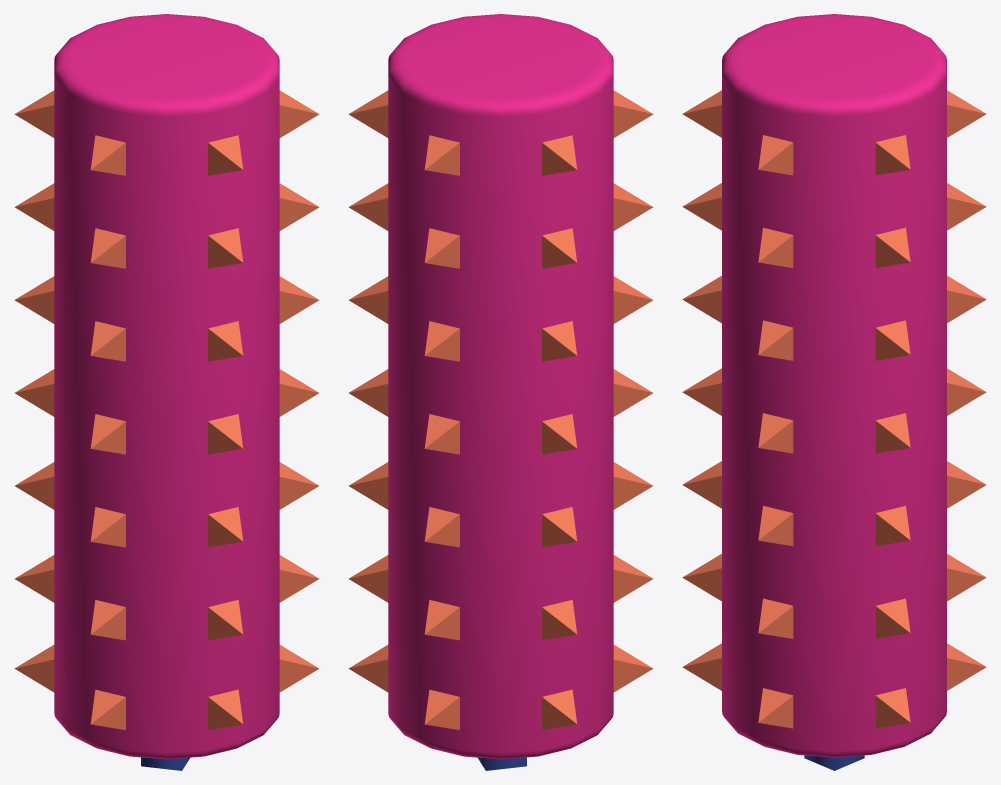
File: Trap_Clumn.FBX
The picture shows the model from 3 angles, left to right: view 1: azimuth 30°, elevation 25°; view 2: azimuth 150°, elevation 25°; view 3: azimuth 270°, elevation 25°; orthographic projection.
Visible parts, largest first — view 1: Trap_Clumn; view 2: Trap_Clumn; view 3: Trap_Clumn.
Part boxes in pixels (<box>): Trap_Clumn: <box>14,14,319,770</box>; Trap_Clumn: <box>348,14,653,770</box>; Trap_Clumn: <box>682,14,986,770</box>.
Bounding box in the file's own units: 85.96 × 252 × 99.26.
